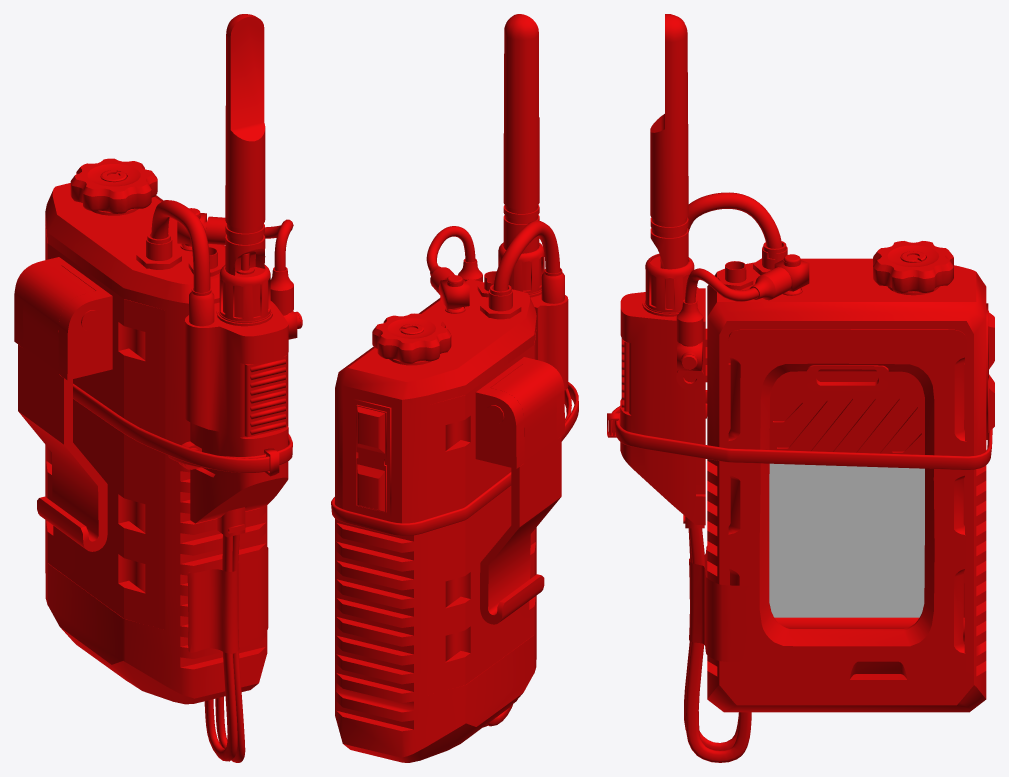
File: 2radio lp.fbx
3 views of the same model, side by side, from view 1: azimuth 30°, elevation 25°; view 2: azimuth 150°, elevation 25°; view 3: azimuth 270°, elevation 25° (orthographic). The views are drawn at different scales.
Visible parts, largest first — view 1: base_low, back_low, battery_low, clamp_low, antenna_low, tape_low, valve_low, lenta_low, panel_low, cilindr_low, wires1_low, wires4_low (+7 smaller); view 2: base_low, back_low, clamp_low, antenna_low, regulator_low, lenta_low, valve_low, battery_low, wires1_low, panelka_low, cilindr_low, wires2_low (+3 smaller); view 3: base_low, window_low, screen_low, battery_low, reshetka_low, antenna_low, lenta_low, tape_low, valve_low, wires3_low, cilindr_low, wires1_low (+6 smaller).
Boxes of the visible parts, x1,y1,x2,y2 form: base_low: (45,183,267,704); back_low: (14,223,165,629); battery_low: (178,301,288,523); clamp_low: (18,265,107,551); antenna_low: (225,14,265,275); tape_low: (187,547,268,653); valve_low: (70,158,157,213); lenta_low: (73,383,292,472); panel_low: (244,355,286,436); cilindr_low: (219,253,270,321); wires1_low: (151,200,210,292); wires4_low: (204,534,237,761); base_low: (335,279,536,762); back_low: (427,327,564,695); clamp_low: (480,364,561,624); antenna_low: (503,14,539,253); regulator_low: (356,404,386,512); lenta_low: (331,382,578,535); valve_low: (372,313,451,363); battery_low: (529,291,568,389); wires1_low: (493,220,560,291); panelka_low: (352,398,391,517); cilindr_low: (498,242,544,293); wires2_low: (426,226,475,271); base_low: (707,258,986,712); window_low: (727,329,967,680); screen_low: (769,463,924,617); battery_low: (620,287,707,525); reshetka_low: (728,363,964,454); antenna_low: (650,14,688,269); lenta_low: (609,390,992,469); tape_low: (689,546,756,662); valve_low: (873,241,953,292); wires3_low: (685,528,751,762); cilindr_low: (645,253,694,312); wires1_low: (687,192,782,248).
Bounding box in the file's own units: 202 × 799 × 379.
